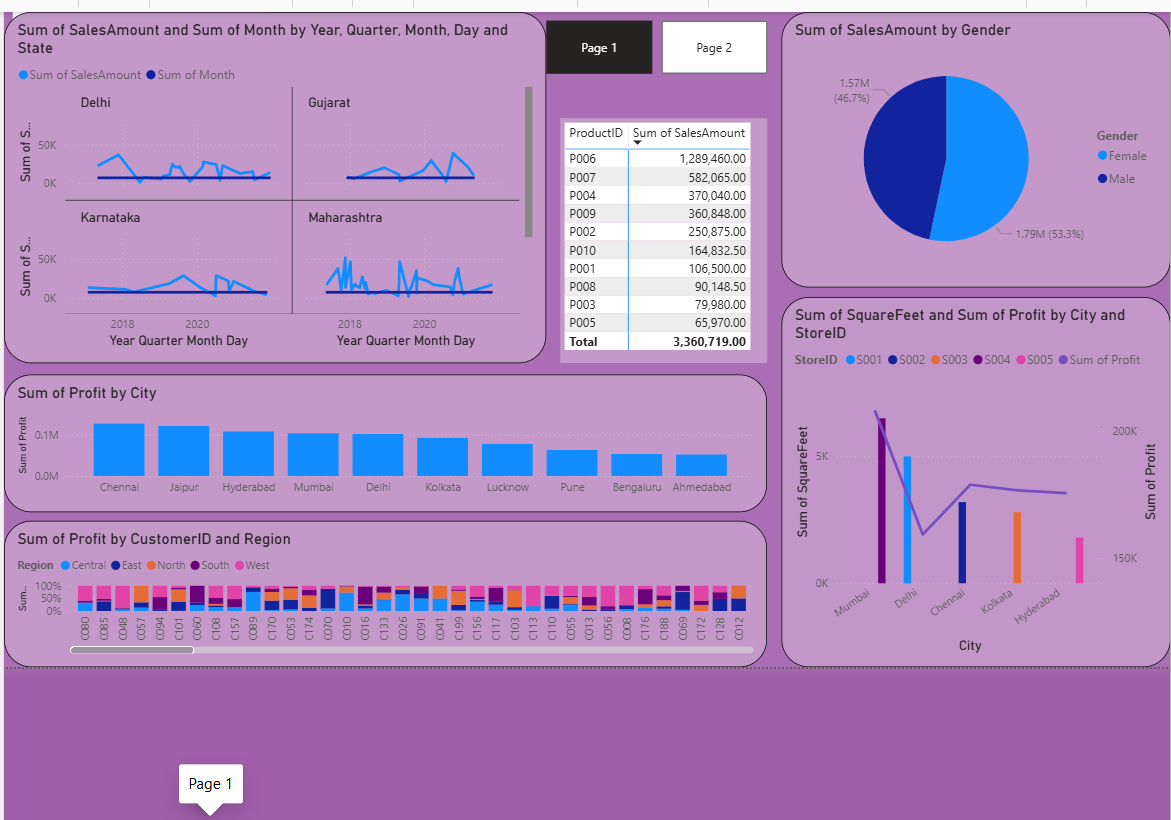

Layout of this report page (visuals, bound fields, positions):
{"tool":"powerbi","page":{"name":"Page 1","canvas":[1280,720],"ordinal":0},"visuals":[{"type":"lineChart","fields":{"Category":["DimSDG.ImpactArea"]},"box":[10,0,280,280],"z":0},{"type":"lineChart","fields":{"Y":["Sum(FactSales.SalesAmount)","Sum(DimDate.Month)"],"Category":["DimCustomer.JoinDate.Variation.Date Hierarchy.Year","DimCustomer.JoinDate.Variation.Date Hierarchy.Quarter","DimCustomer.JoinDate.Variation.Date Hierarchy.Month","DimCustomer.JoinDate.Variation.Date Hierarchy.Day"],"Rows":["DimCustomer.State"]},"box":[0,0,731.4,382.9],"z":1000},{"type":"clusteredColumnChart","fields":{"Y":["Sum(FactSales.Profit)"],"Category":["DimCustomer.City"]},"box":[0,382.9,430,151.4],"z":2000},{"type":"pieChart","fields":{"Category":["DimCustomer.Gender"],"Y":["Sum(FactSales.SalesAmount)"]},"box":[985.7,0,294.3,248.6],"z":3000},{"type":"lineClusteredColumnComboChart","fields":{"Category":["DimStore.City"],"Y":["Sum(DimStore.SquareFeet)"],"Series":["DimStore.StoreID"],"Y2":["Sum(FactSales.Profit)"]},"box":[853.3,313.3,426.7,406.7],"z":4000},{"type":"hundredPercentStackedColumnChart","fields":{"Category":["FactSales.CustomerID"],"Y":["Sum(FactSales.Profit)"],"Series":["FactSales.Region"]},"box":[430,382.9,407.1,151.4],"z":5000},{"type":"pageNavigator","box":[731.4,0,241.4,58.6],"z":6000},{"type":"slicer","fields":{"Values":["DimCustomer.City"]},"box":[731.4,60,244.3,252.9],"z":7000},{"type":"textbox","box":[0,534.3,825.7,185.7],"z":8000}]}

Visuals, with their boxes on the page's 1280x720 design canvas (x1, y1, x2, y2). These are canvas units, not pixel positions in the 1171x820 screenshot, which may show the page scaled, cropped or inside an application window:
lineChart - DimSDG.ImpactArea: (10, 0, 290, 280)
lineChart - Sum(FactSales.SalesAmount) x Sum(DimDate.Month): (0, 0, 731, 383)
clusteredColumnChart - Sum(FactSales.Profit) x DimCustomer.City: (0, 383, 430, 534)
pieChart - DimCustomer.Gender x Sum(FactSales.SalesAmount): (986, 0, 1280, 249)
lineClusteredColumnComboChart - DimStore.City x Sum(DimStore.SquareFeet): (853, 313, 1280, 720)
hundredPercentStackedColumnChart - FactSales.CustomerID x Sum(FactSales.Profit): (430, 383, 837, 534)
pageNavigator: (731, 0, 973, 59)
slicer - DimCustomer.City: (731, 60, 976, 313)
textbox: (0, 534, 826, 720)
